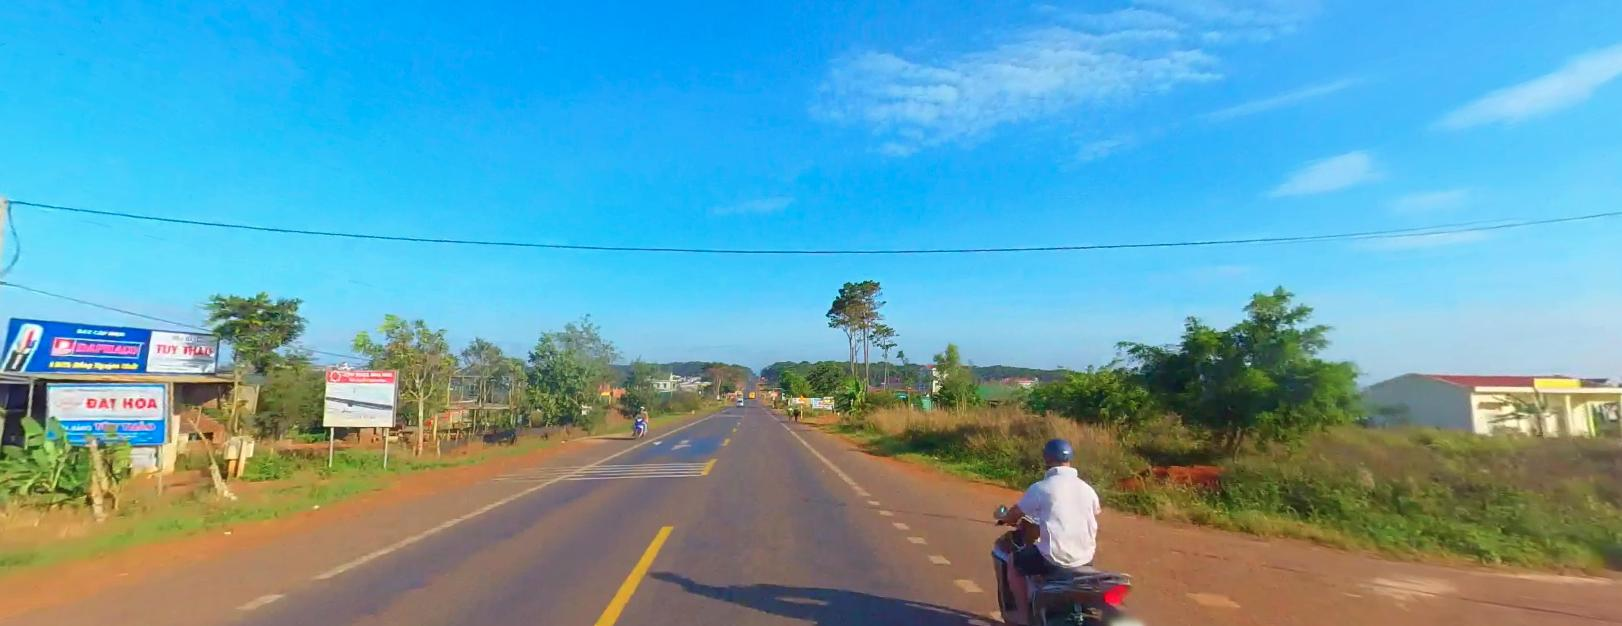Nguy hiem: (797, 393, 805, 401)
